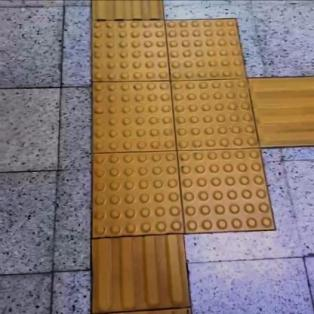Podoctatil: (76, 0, 295, 268)
